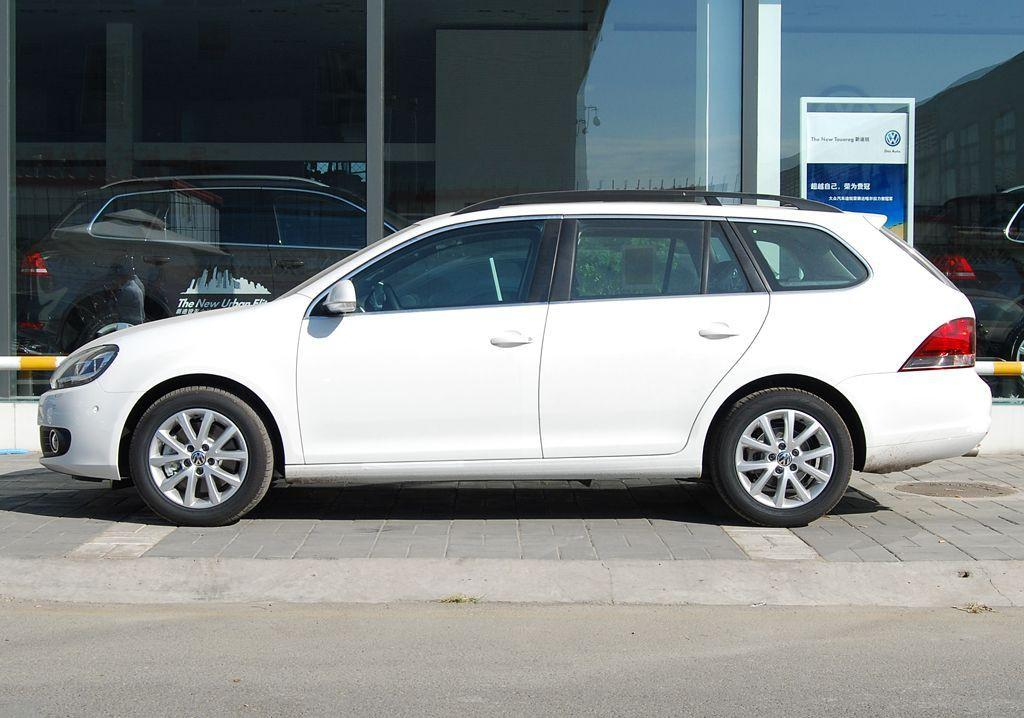Wagon: (38, 191, 992, 528)
